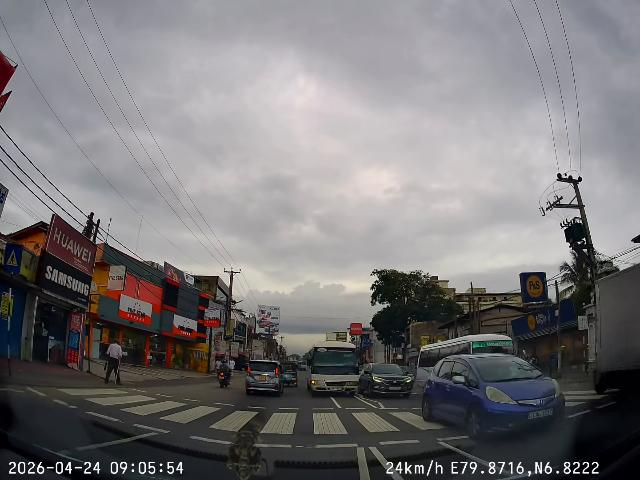illegal overtaking: (305, 338, 363, 404)
